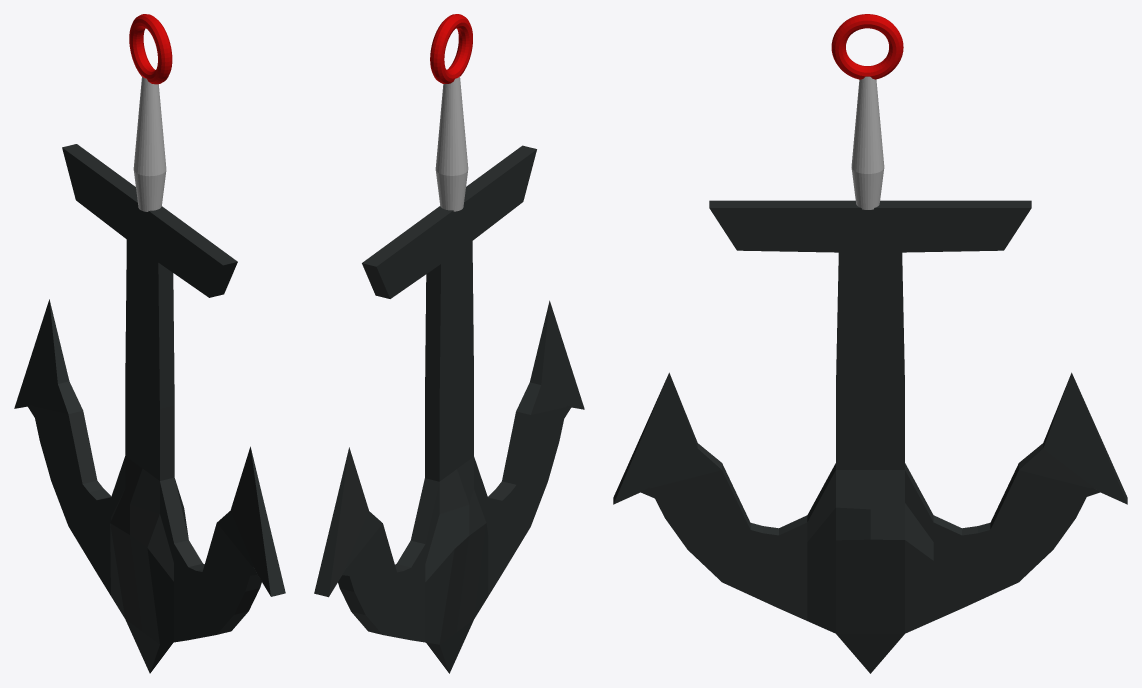
The model's file is Jangkar.fbx.
3 renders of one model, left to right at view 1: azimuth 30°, elevation 25°; view 2: azimuth 150°, elevation 25°; view 3: azimuth 270°, elevation 25°, orthographic.
Visible parts, largest first — view 1: Cube; view 2: Cube; view 3: Cube.
Part boxes in pixels (x1,y1,x2,y2): Cube: (14, 14, 285, 673); Cube: (314, 14, 584, 673); Cube: (613, 14, 1127, 673).
Size of the model in its own units: 70.08 by 1022 by 723.
